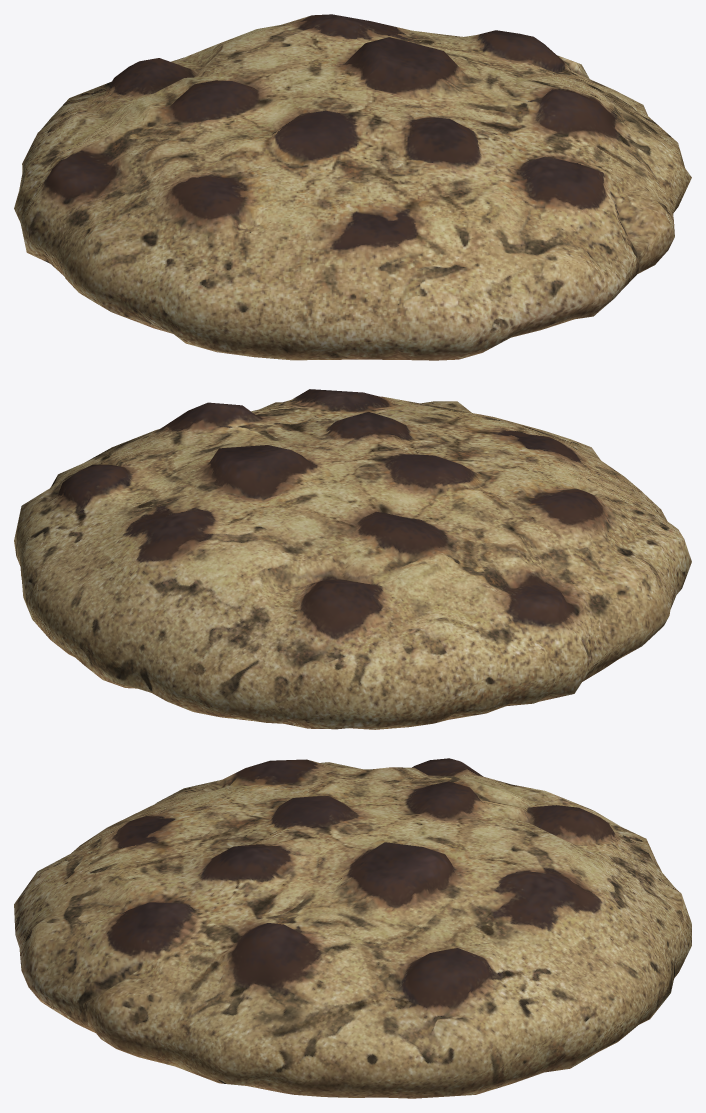
Rendered from cookie1.fbx.
The picture shows the model from 3 angles, top to bottom: view 1: azimuth 30°, elevation 25°; view 2: azimuth 150°, elevation 25°; view 3: azimuth 270°, elevation 25°; orthographic projection.
Visible parts, largest first — view 1: Cookie1_LOD0; view 2: Cookie1_LOD0; view 3: Cookie1_LOD0.
Part boxes in pixels (x1,y1,x2,y2): Cookie1_LOD0: [14, 14, 691, 360]; Cookie1_LOD0: [14, 389, 691, 729]; Cookie1_LOD0: [14, 758, 691, 1098].
Size of what is drawn, in the model's own units: 6.7 by 1.67 by 6.65.
